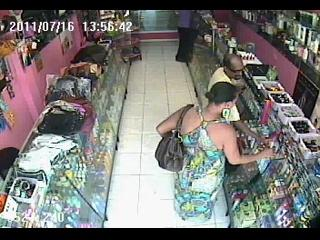Normal: (156, 82, 279, 227), (207, 54, 268, 146), (154, 103, 193, 172), (174, 10, 198, 66), (120, 46, 142, 66)
